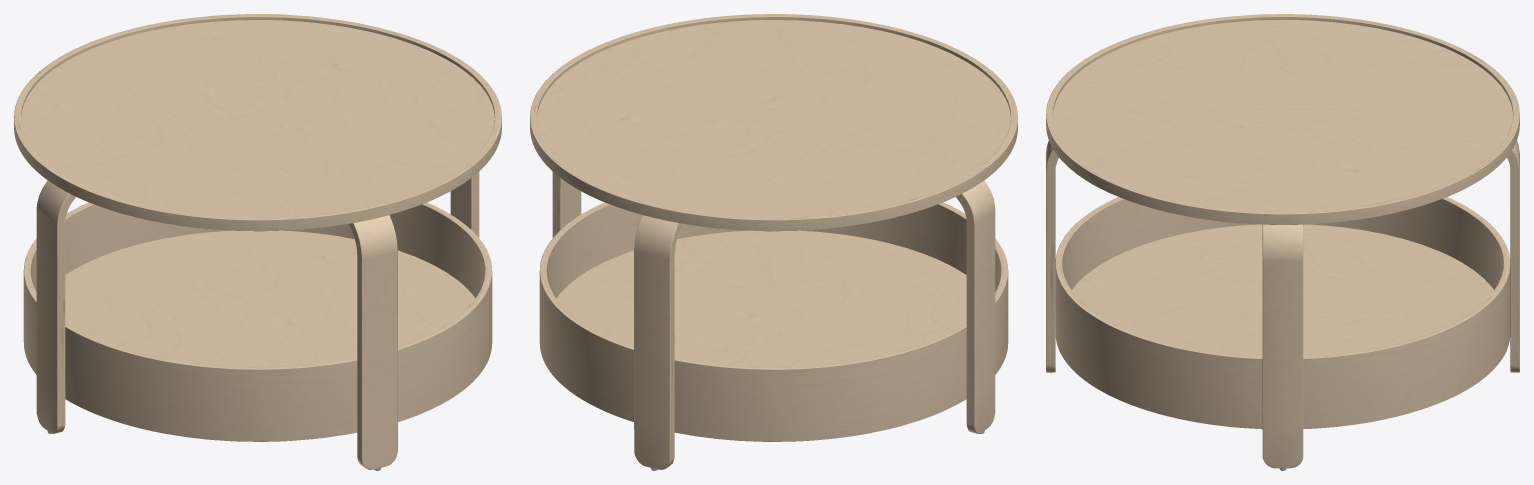
Rendered from borgeby_stolik_kawowy_70389356.glb.
The picture shows the model from 3 angles, left to right: view 1: azimuth 30°, elevation 25°; view 2: azimuth 150°, elevation 25°; view 3: azimuth 270°, elevation 25°; orthographic projection. The views are drawn at different scales.
Visible parts, largest first — view 1: borgeby_stolik_kawowy_70389356; view 2: borgeby_stolik_kawowy_70389356; view 3: borgeby_stolik_kawowy_70389356.
Boxes of the visible parts, box(x1,y1,x2,y2) form: borgeby_stolik_kawowy_70389356: box(14, 14, 501, 470); borgeby_stolik_kawowy_70389356: box(530, 14, 1017, 470); borgeby_stolik_kawowy_70389356: box(1046, 14, 1519, 470).
Bounding box in the file's own units: 0.7 × 0.42 × 0.7.
Materials: 1 (1 with a texture image).
